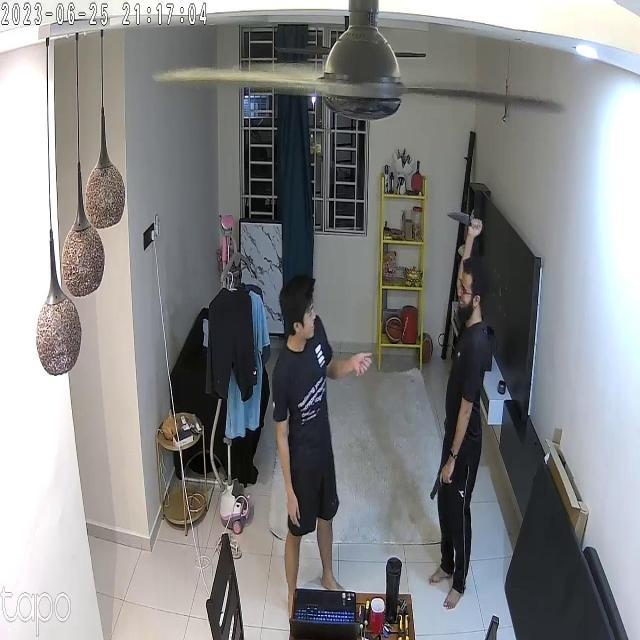Gun: (419, 464, 458, 505)
Knife: (437, 194, 485, 236)
